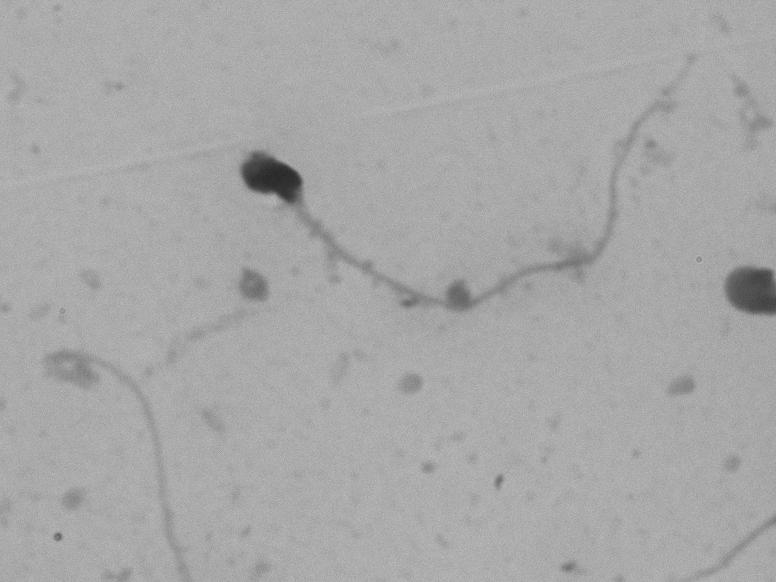Abnormal: (216, 52, 687, 348)
